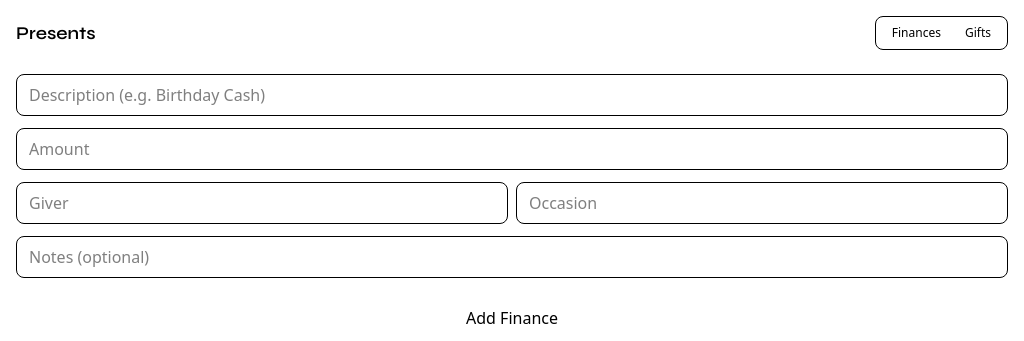
Scenario: PresentsLog › switches form fields when toggling to Gifts sub-tab
Click the button "Gifts". click: (978, 33)
box: [953,21,1003,45]
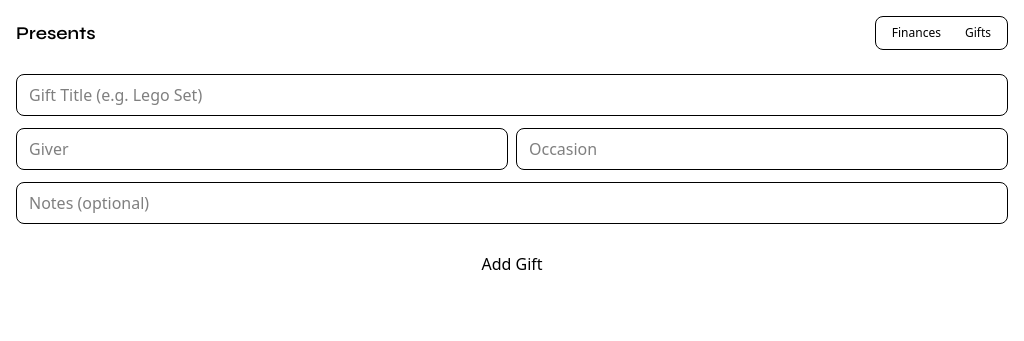
Now the field with placeholder "Gift Title (e.g. Lego Set)" is shown, box [16,74,1008,116]
Now the number field with placeholder "Amount" is gone
